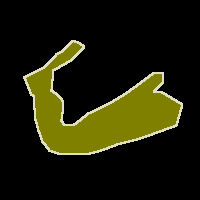tie: (24, 40, 182, 154)
